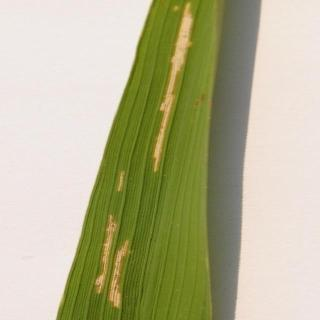Hawar-Daun: (157, 3, 186, 214), (100, 187, 136, 320)
